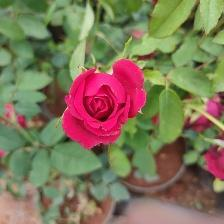rose: (62, 58, 150, 153)
